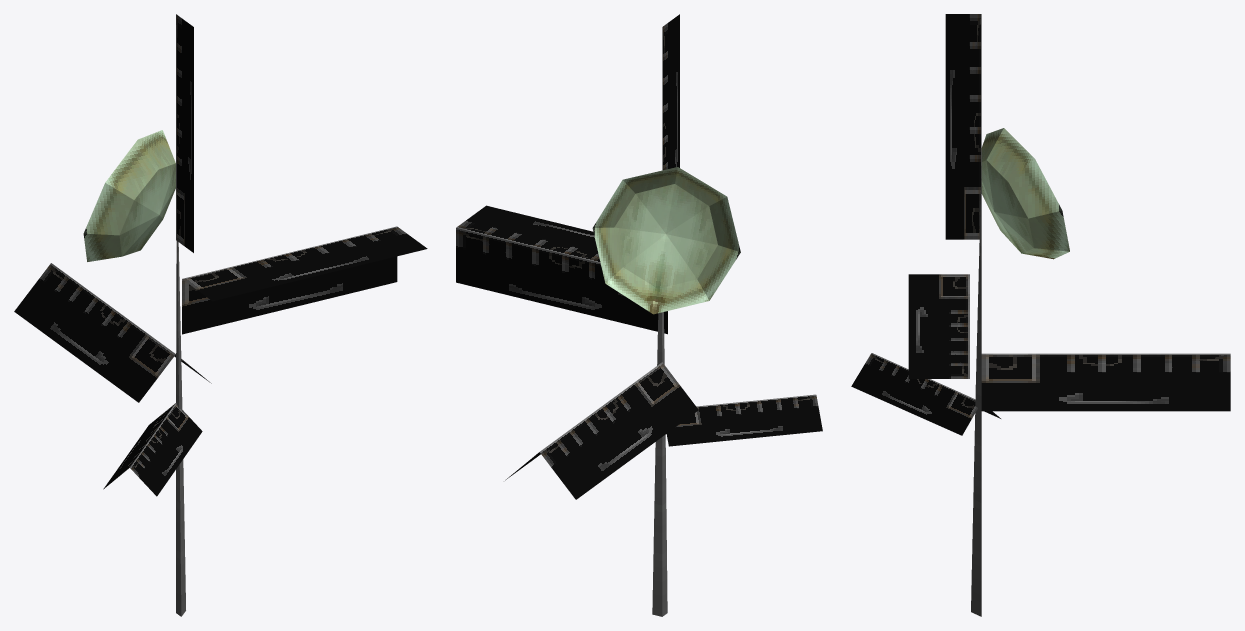
3 views of the same model, side by side, from view 1: azimuth 30°, elevation 25°; view 2: azimuth 150°, elevation 25°; view 3: azimuth 270°, elevation 25° (orthographic).
Parts seen in each view (by area): view 1: prim206-big aerial; view 2: prim206-big aerial; view 3: prim206-big aerial.
Part boxes in pixels (left/top/right/bottom): prim206-big aerial: left=14, top=14, right=427, bottom=616; prim206-big aerial: left=456, top=14, right=822, bottom=616; prim206-big aerial: left=851, top=14, right=1230, bottom=616.
Size of the model in its own units: 395 by 678 by 390.
1 material, 1 textured.
